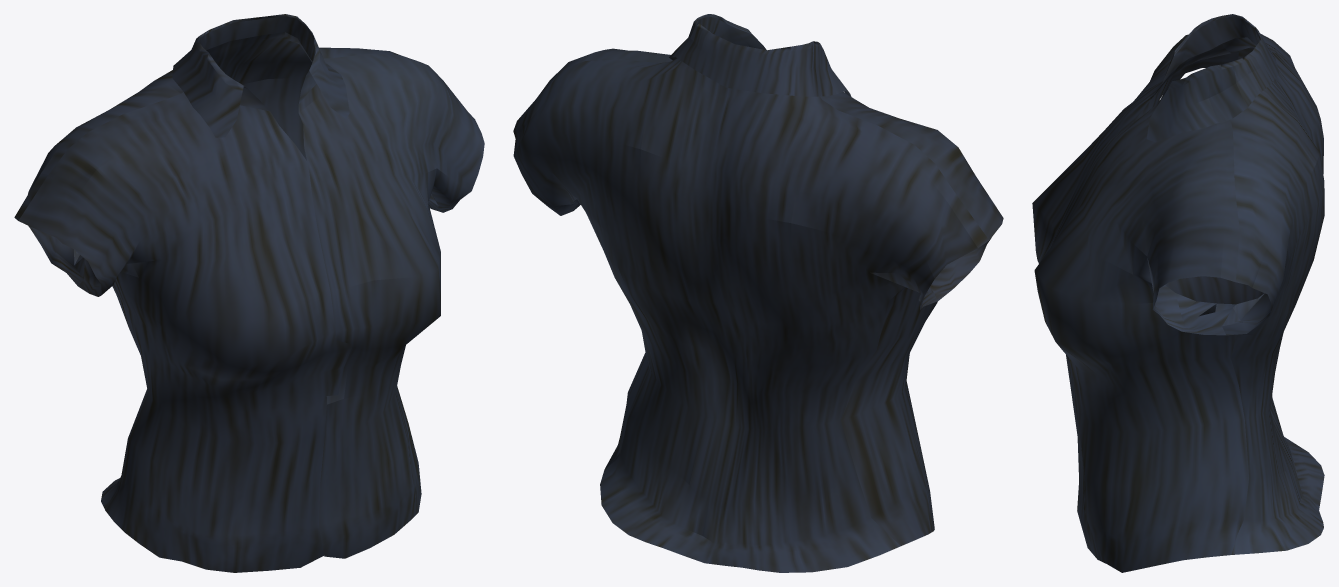
File: SXS_XLF.dae
3 renders of one model, left to right at view 1: azimuth 30°, elevation 25°; view 2: azimuth 150°, elevation 25°; view 3: azimuth 270°, elevation 25°, orthographic. The views are drawn at different scales.
Visible parts, largest first — view 1: SXS; view 2: SXS; view 3: SXS.
Part boxes in pixels (bbox=[...]): SXS: bbox=[14, 14, 484, 572]; SXS: bbox=[513, 14, 1003, 572]; SXS: bbox=[1032, 14, 1324, 572].
Bounding box in the file's own units: 4.99 × 5.2 × 2.81.
